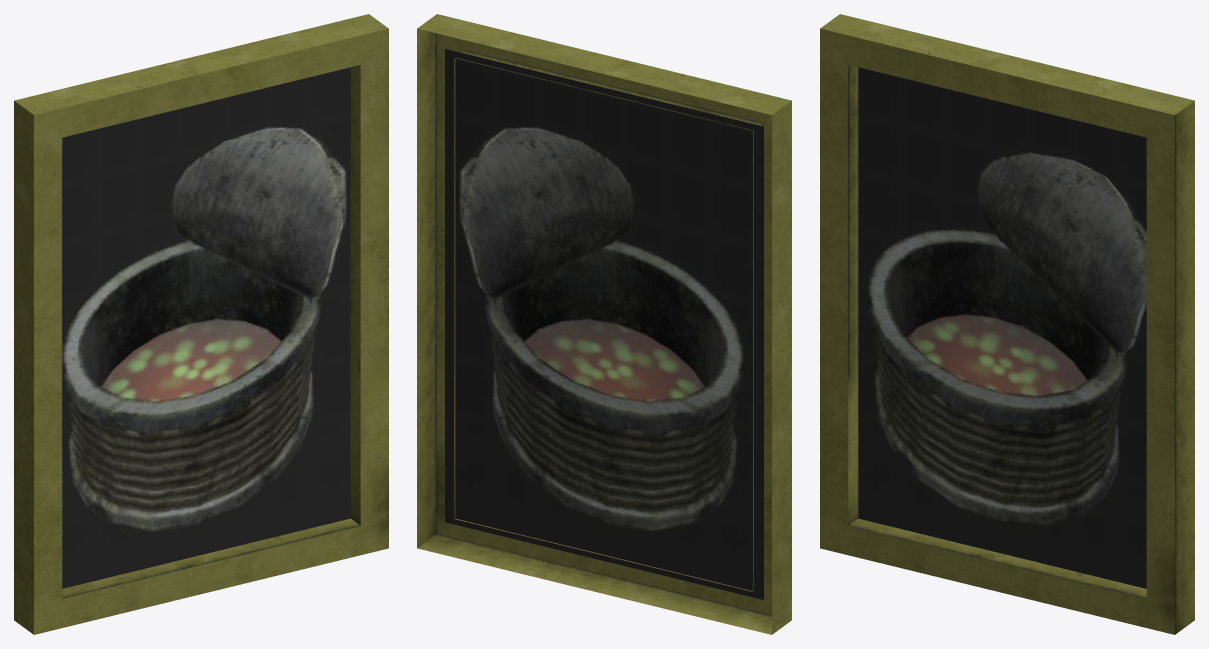
File: Cuadro5.fbx
The picture shows the model from 3 angles, left to right: view 1: azimuth 30°, elevation 25°; view 2: azimuth 150°, elevation 25°; view 3: azimuth 330°, elevation 25°; orthographic projection.
Parts seen in each view (by area): view 1: Plane, marco; view 2: Plane, marco; view 3: Plane, marco.
Boxes of the visible parts, left/top/right/bottom form: Plane: left=62, top=67, right=350, bottom=588; marco: left=14, top=14, right=388, bottom=634; Plane: left=445, top=49, right=763, bottom=599; marco: left=417, top=14, right=791, bottom=634; Plane: left=858, top=67, right=1146, bottom=588; marco: left=820, top=14, right=1194, bottom=634.
Bounding box in the file's own units: 80 × 112 × 7.79.
